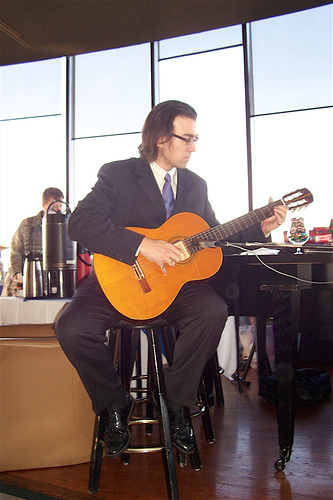guitar: (91, 188, 314, 321)
